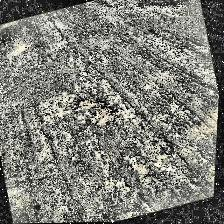pothole: (74, 92, 120, 132)
